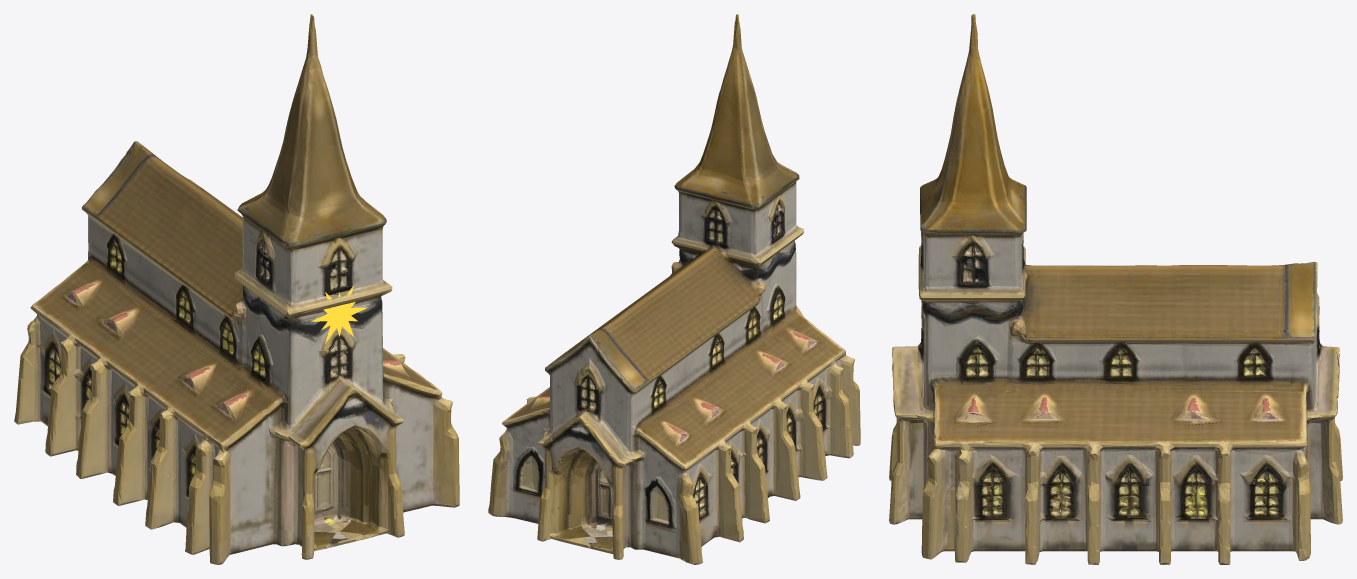
Rendered from chapel_dawn_throne_lod0.glb.
3 renders of one model, left to right at view 1: azimuth 30°, elevation 25°; view 2: azimuth 150°, elevation 25°; view 3: azimuth 270°, elevation 25°, orthographic. The views are drawn at different scales.
Visible parts, largest first — view 1: ChapelDawnThrone, SunEmblem; view 2: ChapelDawnThrone; view 3: ChapelDawnThrone.
Boxes of the visible parts, box(x1,y1,x2,y2) form: ChapelDawnThrone: box(14, 14, 459, 564); SunEmblem: box(311, 285, 368, 343); ChapelDawnThrone: box(488, 14, 860, 564); ChapelDawnThrone: box(889, 14, 1342, 564).
Size of the model in its own units: 7.88 by 13.95 by 11.74.
Materials: 2 (1 with a texture image).
